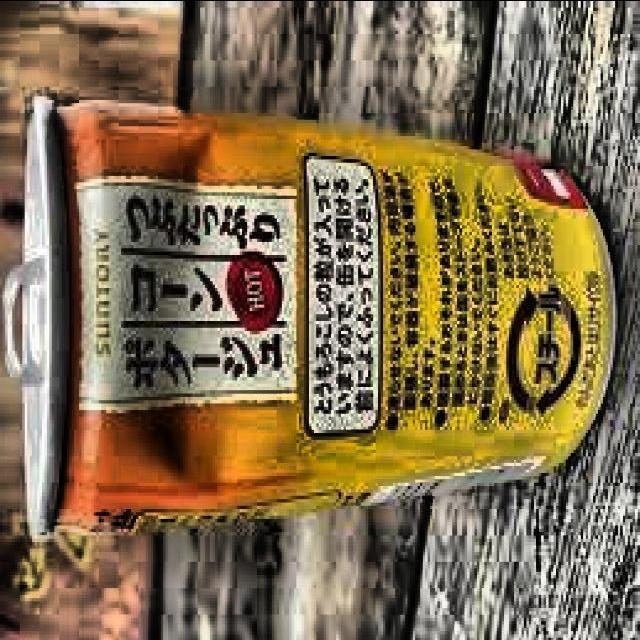litter: (0, 87, 636, 544)
